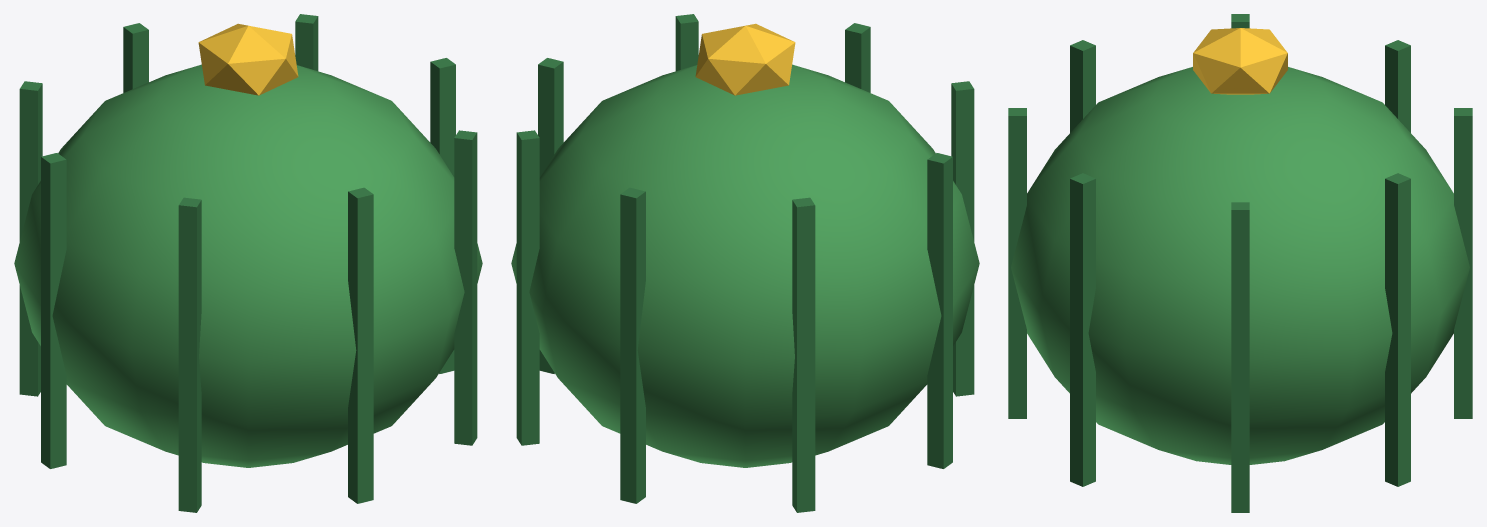
Rendered from hd_barrelcactus.gltf.
3 views of the same model, side by side, from view 1: azimuth 30°, elevation 25°; view 2: azimuth 150°, elevation 25°; view 3: azimuth 270°, elevation 25° (orthographic).
Visible parts, largest first — view 1: body, rib6, rib5, rib4, rib7, bloom, rib3, rib0, rib2, rib1; view 2: body, rib2, rib3, rib4, rib1, bloom, rib5, rib0, rib6, rib7; view 3: body, rib1, rib7, rib0, bloom, rib2, rib6, rib3, rib5.
Boxes of the visible parts, bbox=[...] form: body: bbox=[14, 64, 482, 467]; rib6: bbox=[348, 187, 373, 503]; rib5: bbox=[178, 197, 201, 512]; rib4: bbox=[41, 153, 66, 468]; rib7: bbox=[454, 130, 477, 445]; bloom: bbox=[198, 23, 298, 95]; rib3: bbox=[19, 81, 42, 396]; rib0: bbox=[430, 58, 455, 373]; rib2: bbox=[123, 23, 148, 92]; rib1: bbox=[295, 14, 318, 71]; body: bbox=[511, 64, 979, 467]; rib2: bbox=[620, 187, 645, 503]; rib3: bbox=[792, 197, 815, 512]; rib4: bbox=[927, 153, 952, 468]; rib1: bbox=[516, 130, 539, 445]; bloom: bbox=[695, 23, 795, 95]; rib5: bbox=[951, 81, 974, 396]; rib0: bbox=[538, 58, 563, 373]; rib6: bbox=[845, 23, 870, 92]; rib7: bbox=[675, 14, 698, 71]; body: bbox=[1011, 67, 1469, 464]; rib1: bbox=[1385, 173, 1410, 486]; rib7: bbox=[1070, 173, 1095, 486]; rib0: bbox=[1231, 202, 1249, 512]; bloom: bbox=[1193, 28, 1287, 94]; rib2: bbox=[1454, 108, 1472, 418]; rib6: bbox=[1008, 108, 1026, 418]; rib3: bbox=[1385, 40, 1410, 132]; rib5: bbox=[1070, 40, 1095, 132].
Bounding box in the file's own units: 1 × 0.985 × 1.
